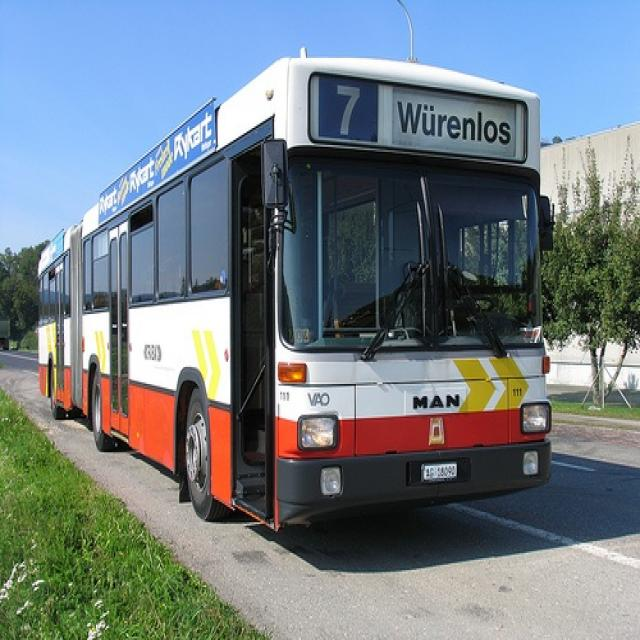bus: (41, 49, 553, 531)
